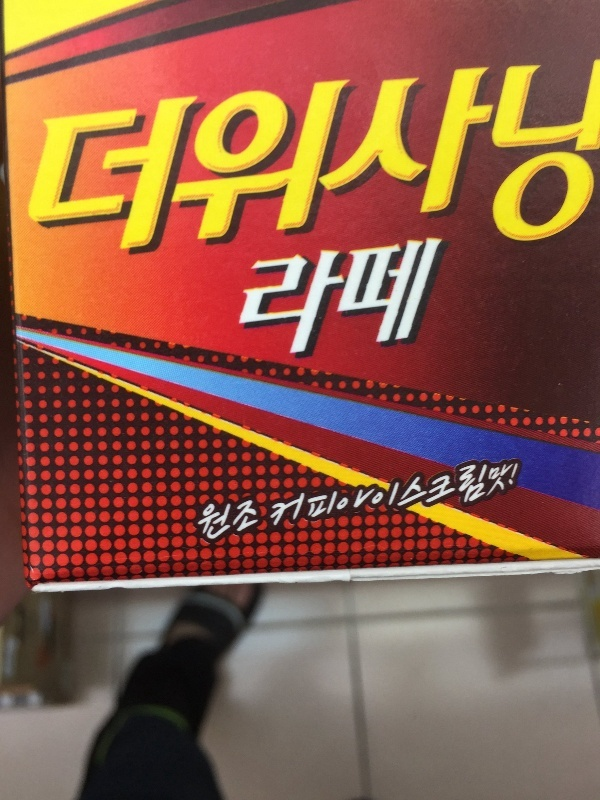text: (49, 60, 64, 255), (65, 60, 80, 255), (81, 60, 96, 255), (97, 60, 112, 255), (113, 60, 128, 255), (129, 60, 144, 255), (145, 60, 160, 255), (161, 60, 176, 255), (177, 60, 192, 255), (193, 60, 208, 255), (209, 60, 224, 255), (225, 60, 240, 255), (241, 60, 256, 255), (257, 60, 272, 255), (273, 60, 288, 255), (289, 60, 304, 255), (305, 60, 320, 255), (321, 60, 336, 255), (337, 60, 352, 255), (353, 60, 368, 255), (369, 60, 384, 255), (385, 60, 400, 255), (401, 60, 416, 255), (417, 60, 432, 255), (433, 60, 448, 255), (449, 60, 464, 255), (465, 60, 480, 255), (481, 60, 496, 255), (497, 60, 512, 255), (513, 60, 528, 255), (529, 60, 544, 255), (545, 60, 560, 255), (561, 60, 576, 255), (577, 60, 592, 255), (257, 235, 272, 362), (273, 235, 288, 362), (289, 235, 304, 362), (305, 235, 320, 362), (321, 235, 336, 362), (337, 235, 352, 362), (353, 235, 368, 362), (369, 235, 384, 362), (385, 235, 400, 362), (401, 235, 416, 362), (417, 235, 432, 362), (39, 60, 48, 255), (243, 235, 256, 362), (433, 235, 445, 362), (593, 60, 600, 255), (273, 456, 288, 533), (289, 456, 304, 533), (305, 456, 320, 533), (321, 456, 336, 533), (337, 456, 352, 533), (353, 456, 368, 533), (369, 456, 384, 533), (385, 456, 400, 533), (401, 456, 416, 533), (417, 456, 432, 533), (433, 456, 448, 533), (449, 456, 464, 533), (465, 456, 480, 533), (481, 456, 496, 533), (497, 456, 512, 533), (209, 494, 224, 548), (225, 494, 240, 548), (241, 494, 256, 548), (513, 456, 522, 533), (197, 494, 208, 548), (269, 456, 272, 533), (257, 494, 259, 548)
